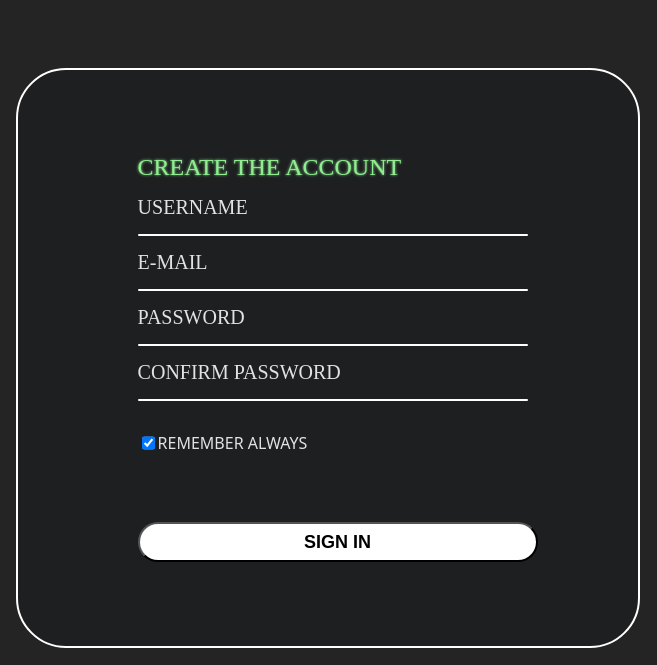
Scenario: Signup Component › shows error if fields are empty
The image size is (657, 665).
Click the button showing "SIGN IN". click: point(338, 542)
box: [138, 522, 538, 562]
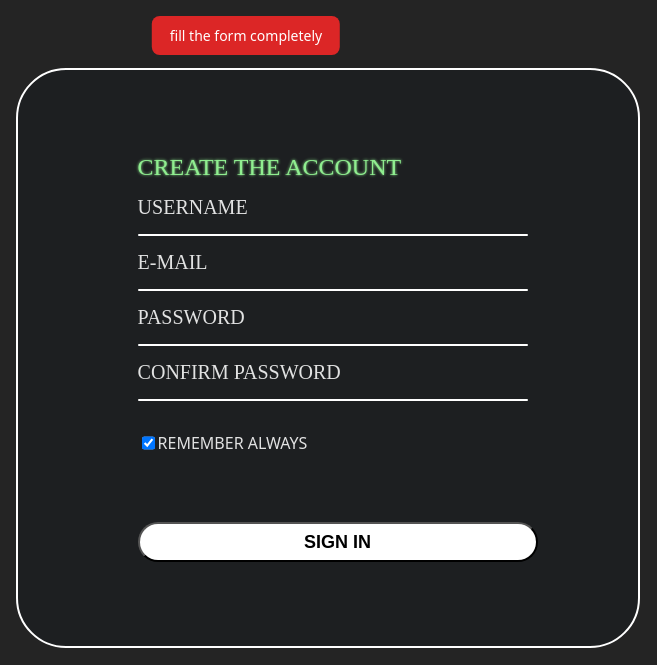
Result: the text "fill the form completely" is shown at [152, 16, 340, 55]
